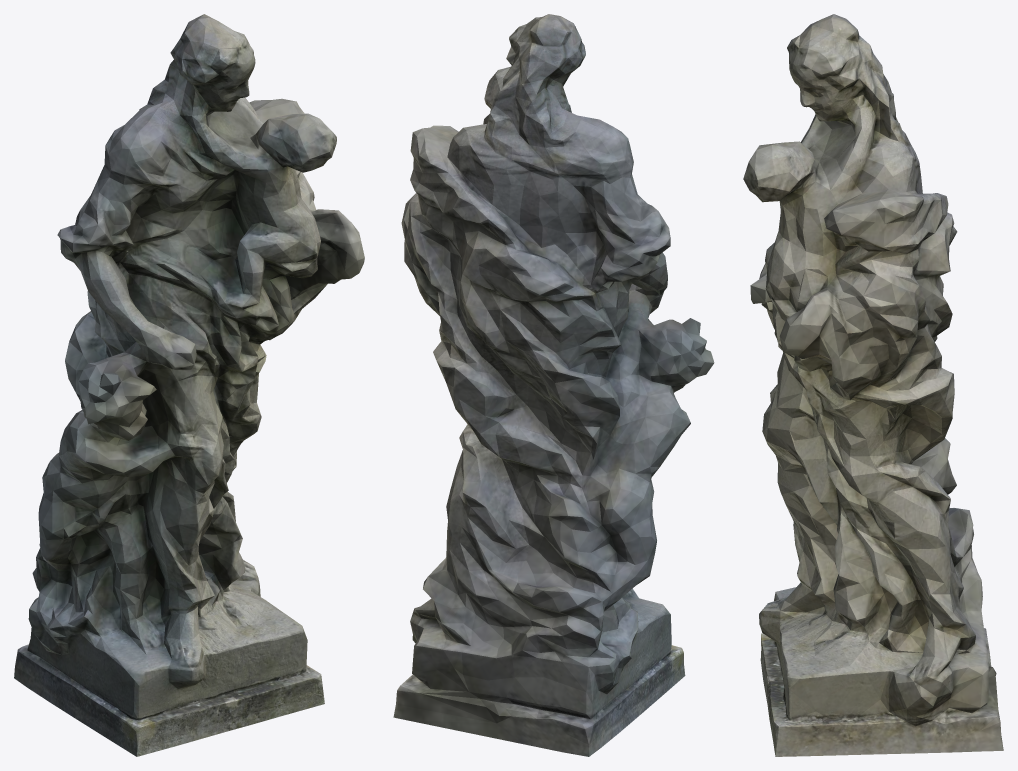
Rendered from laska.glb.
3 views of the same model, side by side, from view 1: azimuth 30°, elevation 25°; view 2: azimuth 150°, elevation 25°; view 3: azimuth 270°, elevation 25° (orthographic). The views are drawn at different scales.
Visible parts, largest first — view 1: laska_decimated4; view 2: laska_decimated4; view 3: laska_decimated4.
Part boxes in pixels (x1,y1,x2,y2): laska_decimated4: [14, 14, 364, 756]; laska_decimated4: [393, 14, 714, 756]; laska_decimated4: [743, 14, 1003, 756].
Size of the model in its own units: 1.64 by 3.82 by 1.3.
Materials: 1 (1 with a texture image).
